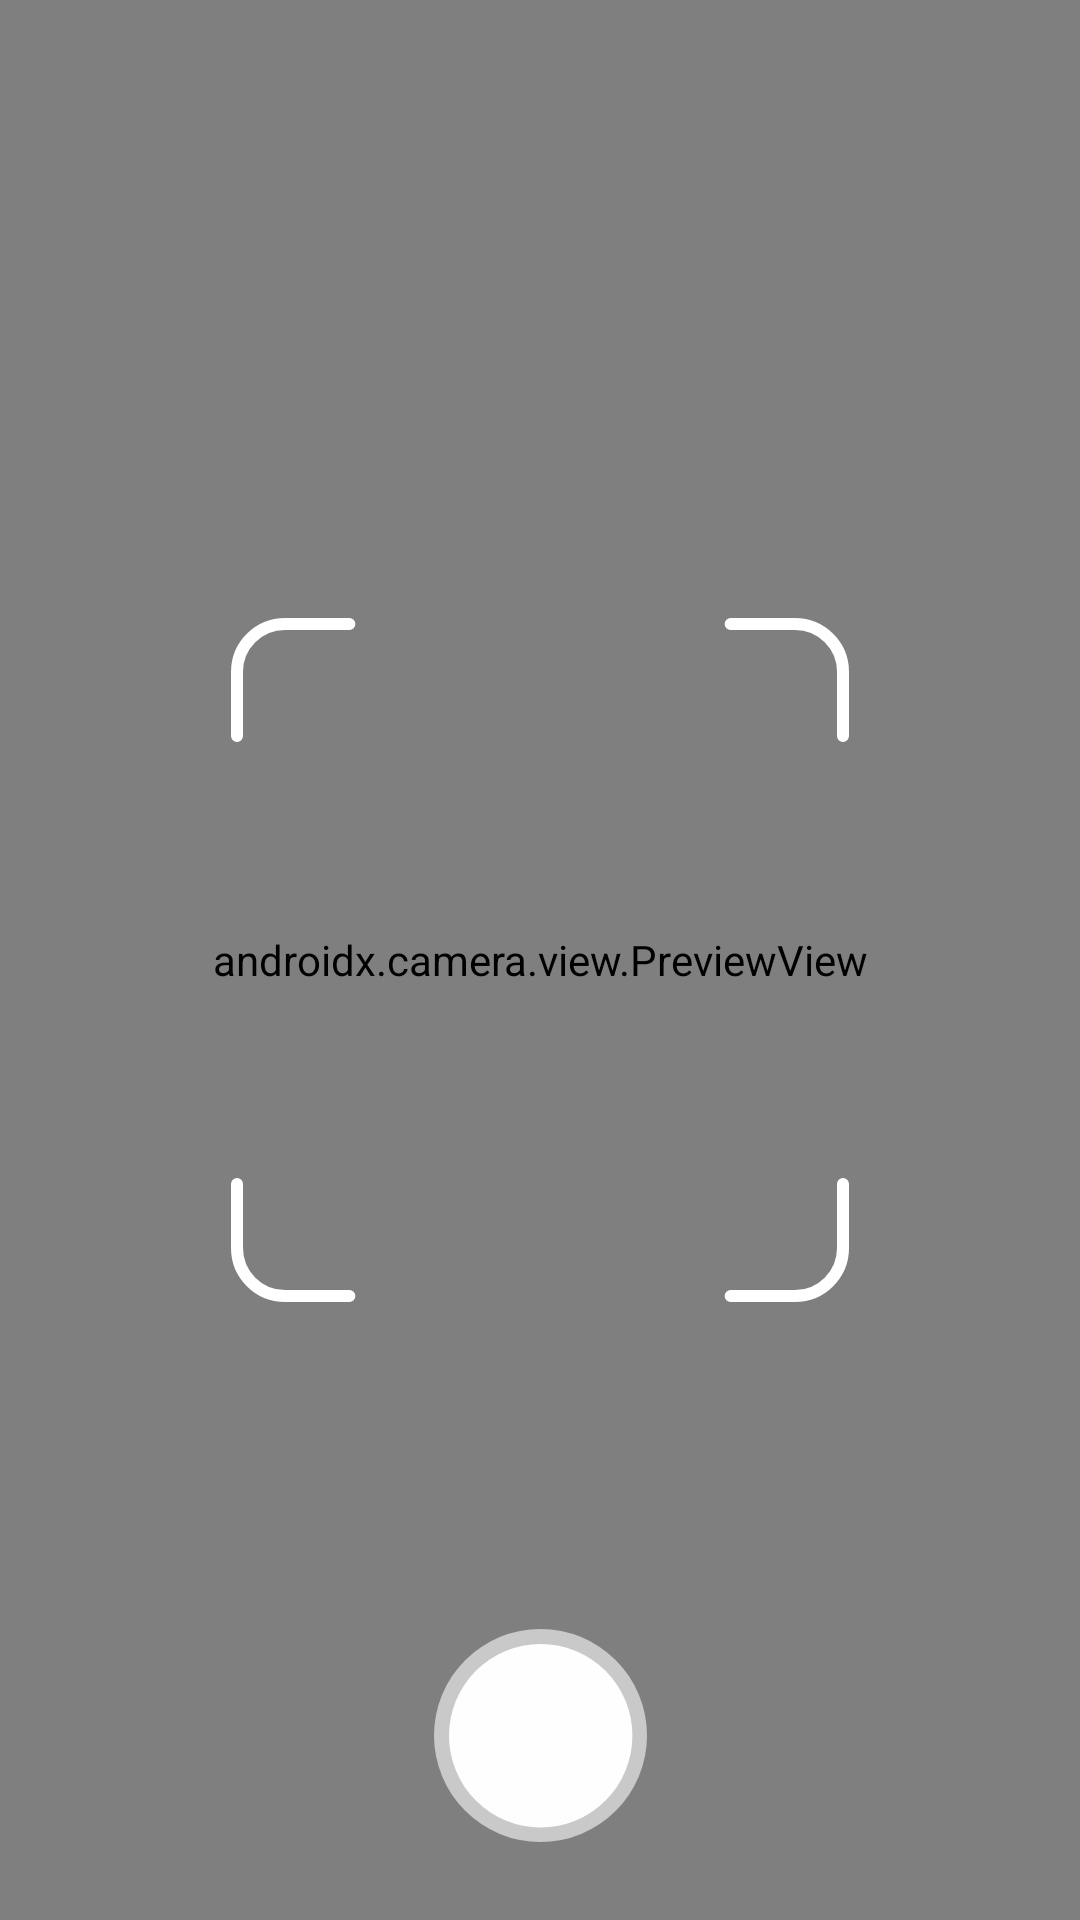

Named icons in this screenshot (1080x1920) and their centers, (x=x, y=y):
circle capture: (x=540, y=1735)
